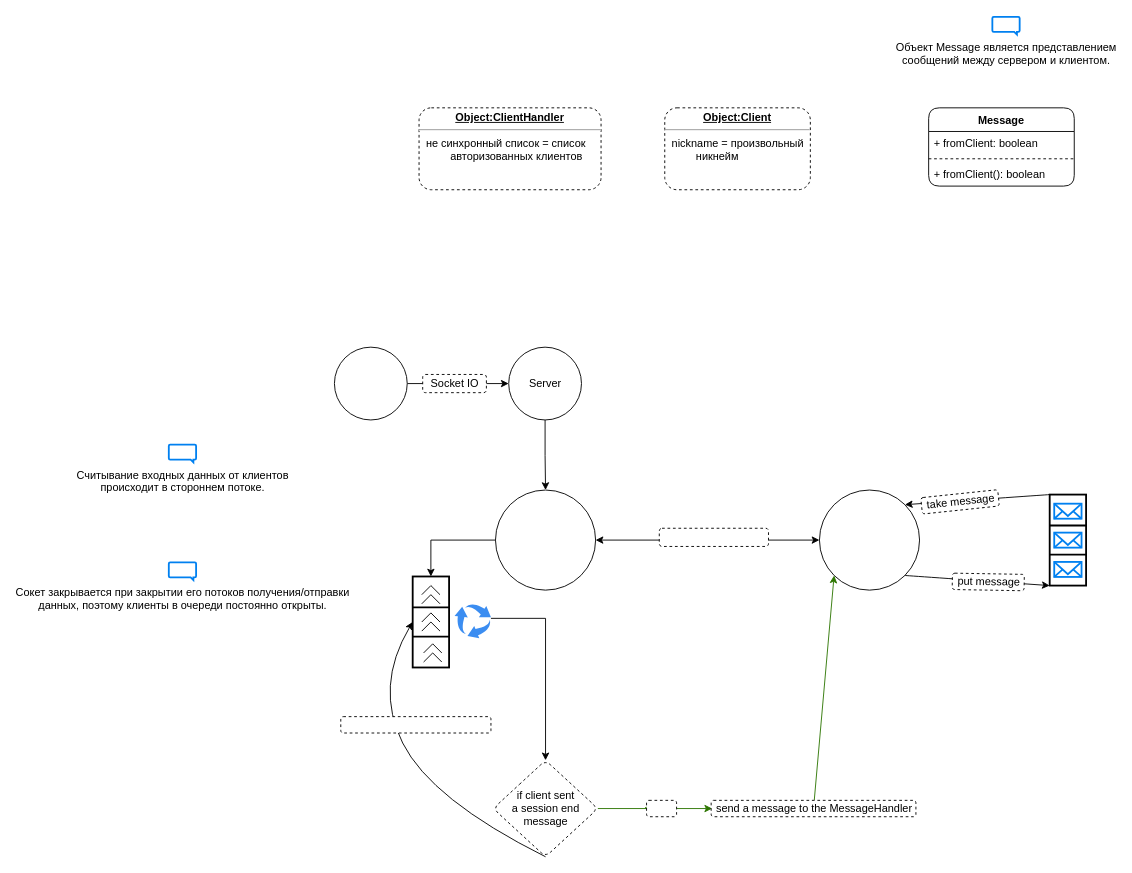
The diagram is 1132 pixels wide and 873 high, and some of its shapes have lost their labels. The shapes that lost their labels are listed below. From the top down, each one's centre as x and y in pixels, then its label:
At point 370,383: "Client".
At point 545,539: "ClientHandler".
At point 713,536: "push/pull messages".
At point 869,539: "MessageHandler".
At point 415,724: "remove client from the queue".
At point 661,808: "if no".
